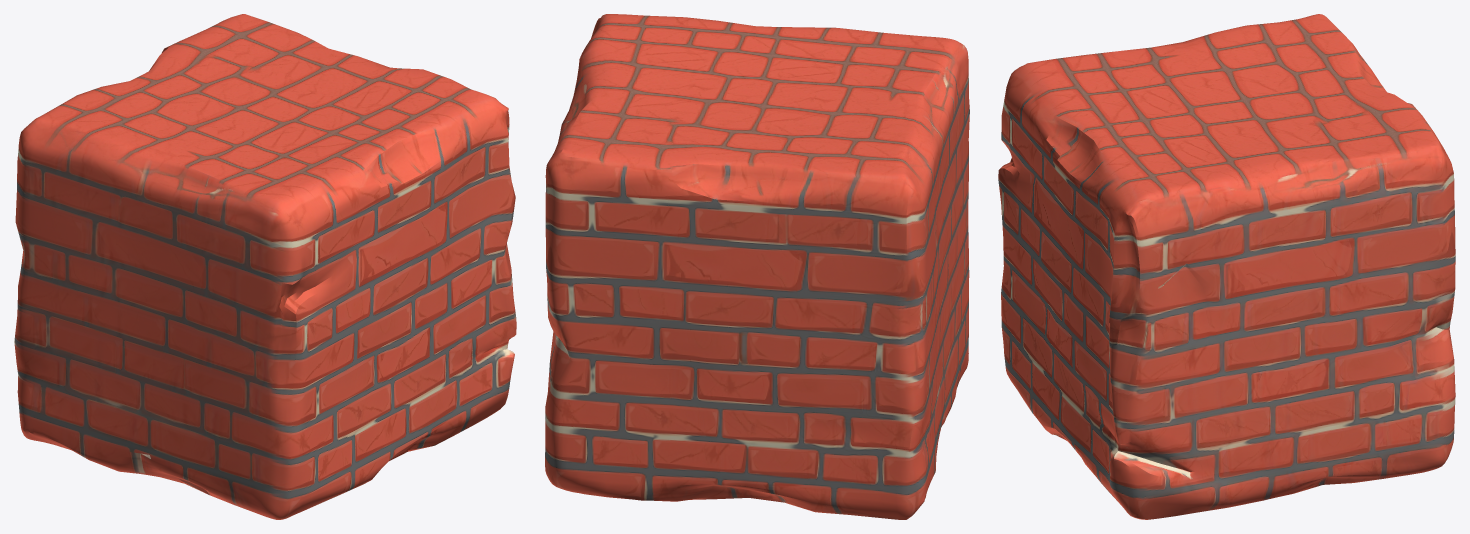
Rendered from brick_cinder_redbrick_v2.glb.
The picture shows the model from 3 angles, left to right: view 1: azimuth 30°, elevation 25°; view 2: azimuth 150°, elevation 25°; view 3: azimuth 270°, elevation 25°; orthographic projection. The views are drawn at different scales.
Parts seen in each view (by area): view 1: Mesh_0; view 2: Mesh_0; view 3: Mesh_0.
Part boxes in pixels (x1=…): Mesh_0: x1=14, y1=14, x2=516, y2=519; Mesh_0: x1=545, y1=14, x2=969, y2=519; Mesh_0: x1=998, y1=14, x2=1455, y2=519.
Bounding box in the file's own units: 1.9 × 1.47 × 1.84.
1 material, 1 textured.
